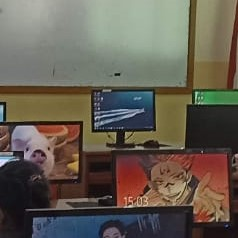monitor: (1, 1, 195, 94), (111, 148, 232, 229), (0, 121, 86, 198), (90, 87, 156, 133), (184, 104, 238, 153), (192, 89, 238, 105), (0, 151, 24, 168), (0, 101, 7, 123)
